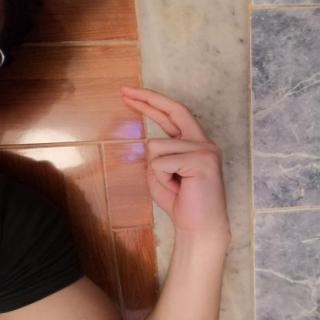ZAY: (111, 78, 239, 239)
